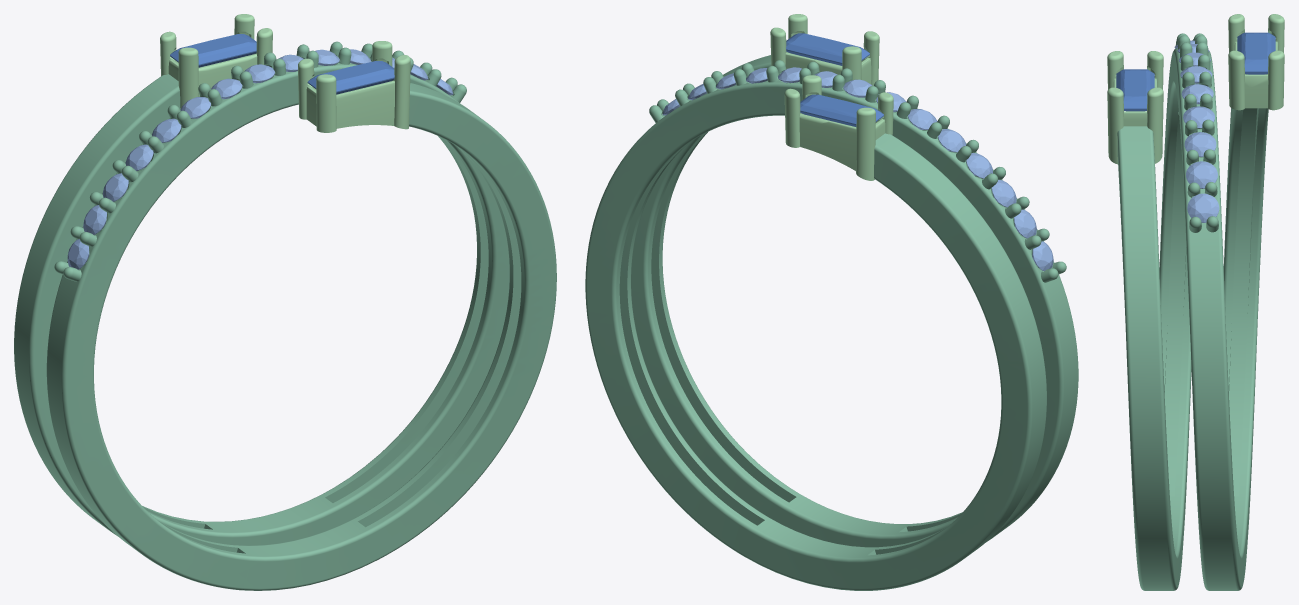
The picture shows the model from 3 angles, left to right: view 1: azimuth 30°, elevation 25°; view 2: azimuth 150°, elevation 25°; view 3: azimuth 270°, elevation 25°; orthographic projection. The views are drawn at different scales.
Parts seen in each view (by area): view 1: Projeto1N°20RendeeR.3dm, Head Rail (×2), Head Prong (×3), Diamond_Radiant (×2); view 2: Projeto1N°20RendeeR.3dm, Head Rail (×2), Diamond_Radiant (×2), Head Prong (×2); view 3: Projeto1N°20RendeeR.3dm, Head Prong (×8), GemOnCrv (×6), Diamond_Radiant (×2), Head Rail (×2).
Part boxes in pixels (box(x1,y1,x2,y2)): Projeto1N°20RendeeR.3dm: box(14, 41, 556, 590); Head Rail (×2): box(168, 53, 394, 128); Head Prong (×3): box(178, 47, 410, 132); Diamond_Radiant (×2): box(170, 34, 394, 94); Projeto1N°20RendeeR.3dm: box(585, 55, 1078, 590); Head Rail (×2): box(785, 52, 885, 170); Diamond_Radiant (×2): box(786, 33, 883, 126); Head Prong (×2): box(784, 88, 875, 180); Projeto1N°20RendeeR.3dm: box(1117, 33, 1268, 590); Head Prong (×8): box(1107, 14, 1284, 164); GemOnCrv (×6): box(1180, 66, 1219, 222); Diamond_Radiant (×2): box(1116, 32, 1275, 111); Head Rail (×2): box(1113, 41, 1278, 126).
Size of the model in its own units: 2.7 by 2.82 by 0.883.
